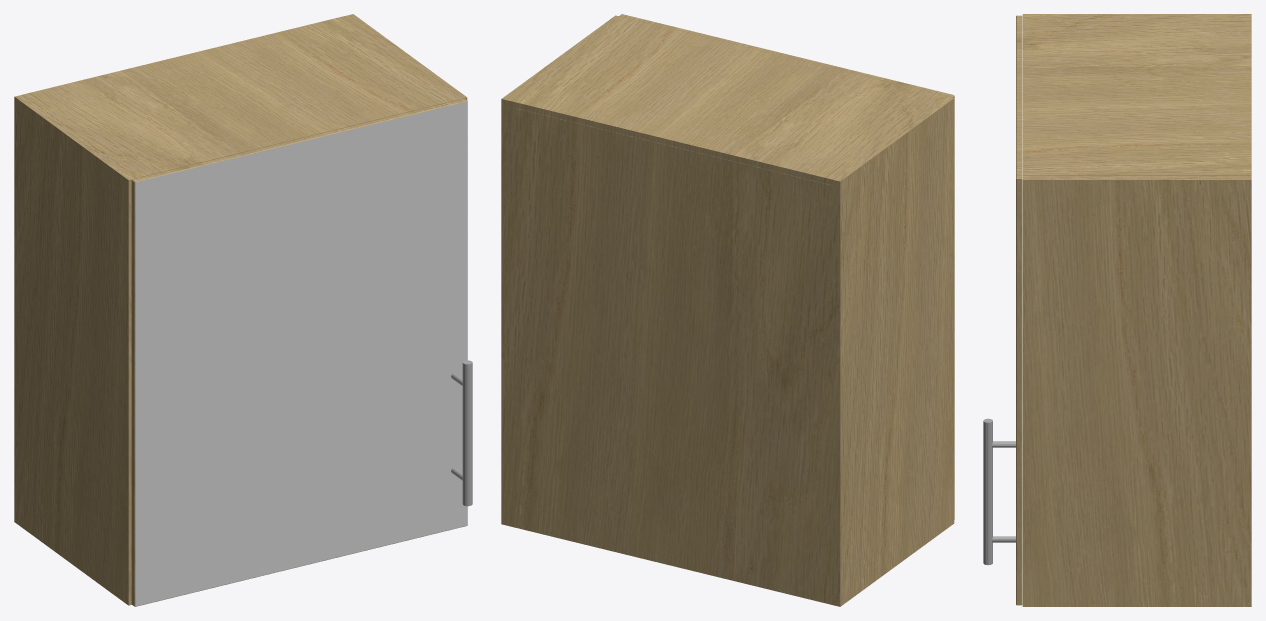
File: upperCabinet.obj
3 views of the same model, side by side, from view 1: azimuth 30°, elevation 25°; view 2: azimuth 150°, elevation 25°; view 3: azimuth 270°, elevation 25° (orthographic).
Parts seen in each view (by area): view 1: Cube.006_Cube.007; view 2: Cube.006_Cube.007; view 3: Cube.006_Cube.007.
Part boxes in pixels (box(x1,y1,x2,y2)): Cube.006_Cube.007: box(14, 14, 472, 606); Cube.006_Cube.007: box(501, 14, 954, 606); Cube.006_Cube.007: box(983, 14, 1251, 606).
Size of the model in its own units: 60 by 72 by 41.
Materials: 4 (2 with a texture image).
